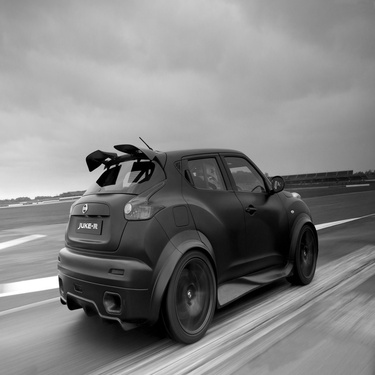car: (49, 132, 326, 355)
